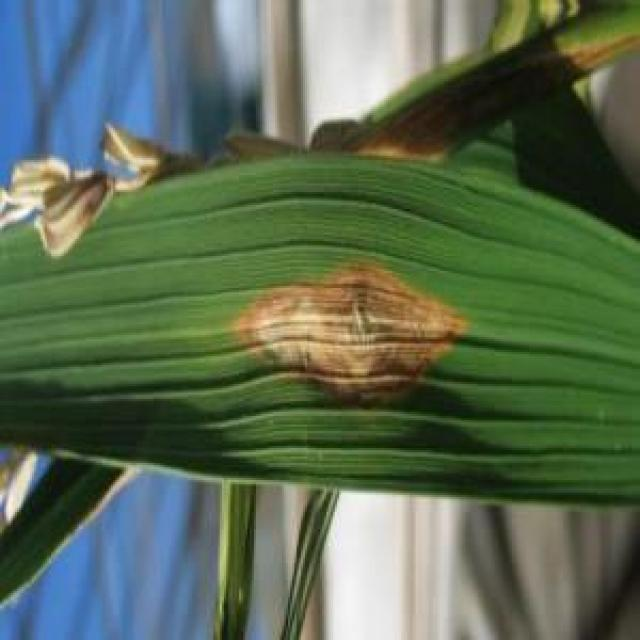Blast: (243, 284, 480, 392)
